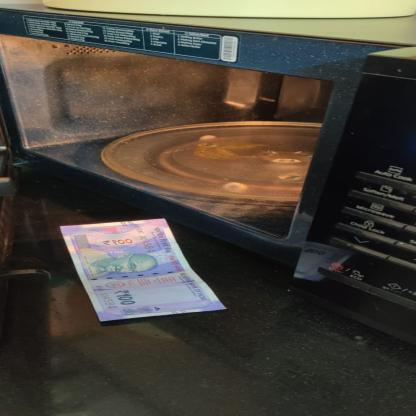New100Front: (55, 217, 230, 324)
